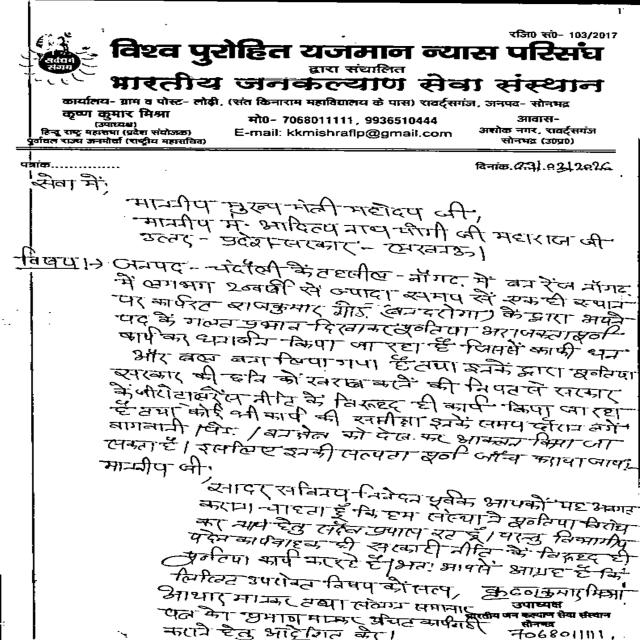letterhead: (23, 25, 624, 152)
